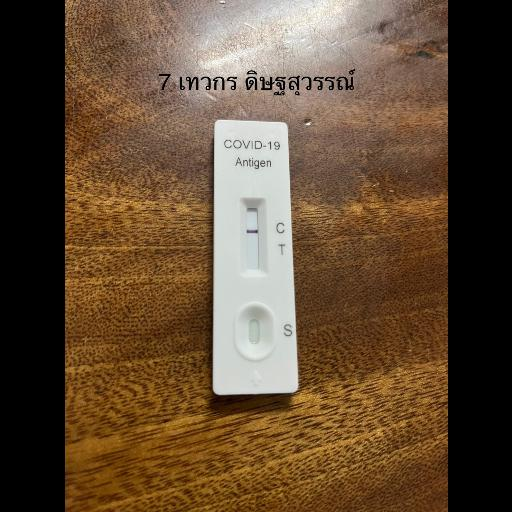Neg: (213, 120, 295, 394)
